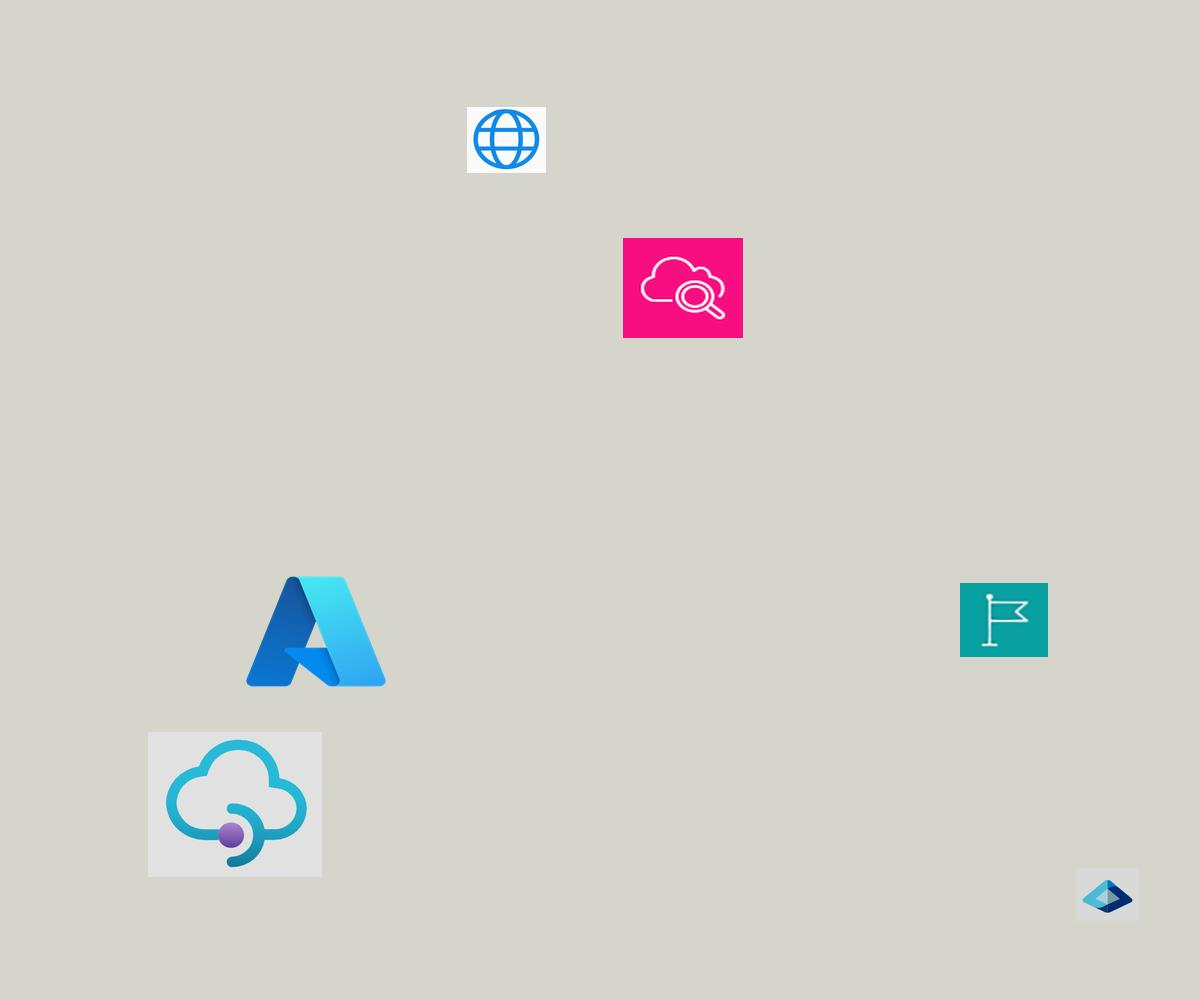AWS-CloudWatch: (623, 238, 743, 338)
AWS-Region: (960, 583, 1048, 657)
Azure_api_gateway: (148, 732, 322, 877)
Azure_http: (467, 107, 546, 173)
Azure_microsoft_entra: (1076, 868, 1139, 921)
Azure_services: (240, 568, 392, 695)
